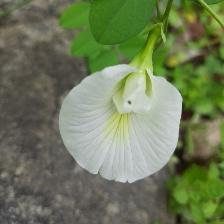shankupushpam: (58, 63, 187, 187)
